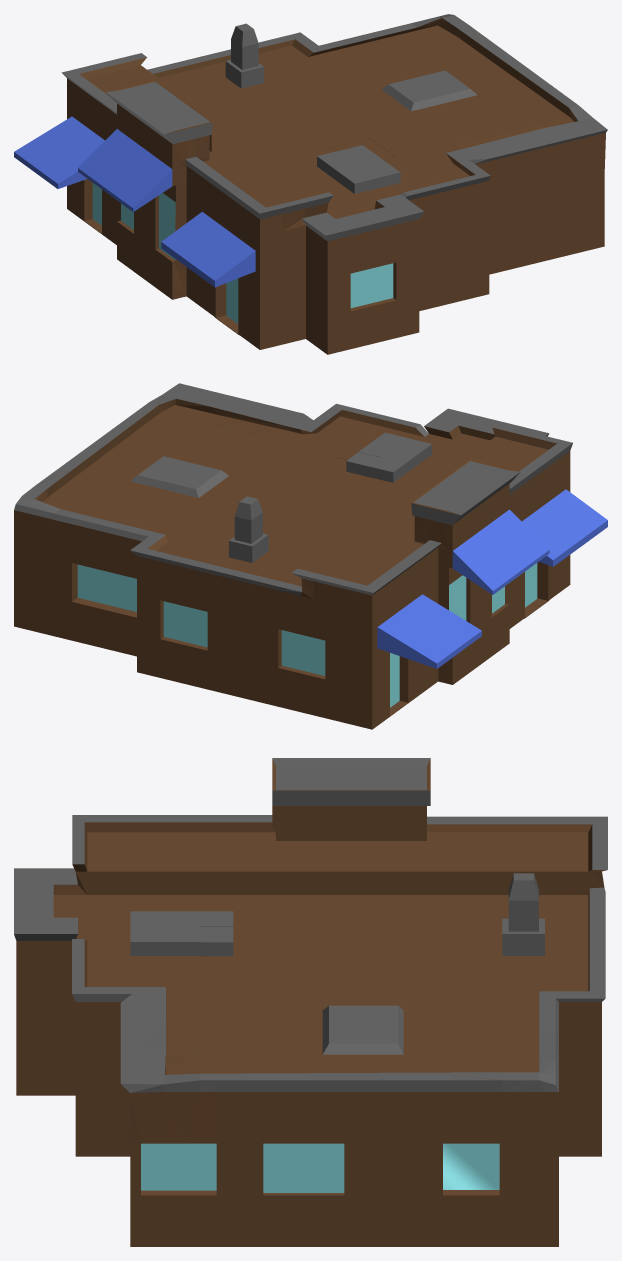
Rendered from Restaurant_HT.fbx.
The picture shows the model from 3 angles, top to bottom: view 1: azimuth 30°, elevation 25°; view 2: azimuth 150°, elevation 25°; view 3: azimuth 270°, elevation 25°; orthographic projection. The views are drawn at different scales.
Parts seen in each view (by area): view 1: Resturaunt_HT; view 2: Resturaunt_HT; view 3: Resturaunt_HT.
Part boxes in pixels (<box>): Resturaunt_HT: <box>14,14,607,354</box>; Resturaunt_HT: <box>14,383,607,729</box>; Resturaunt_HT: <box>14,758,607,1246</box>.
Size of the model in its own units: 1760 by 671 by 1565.
